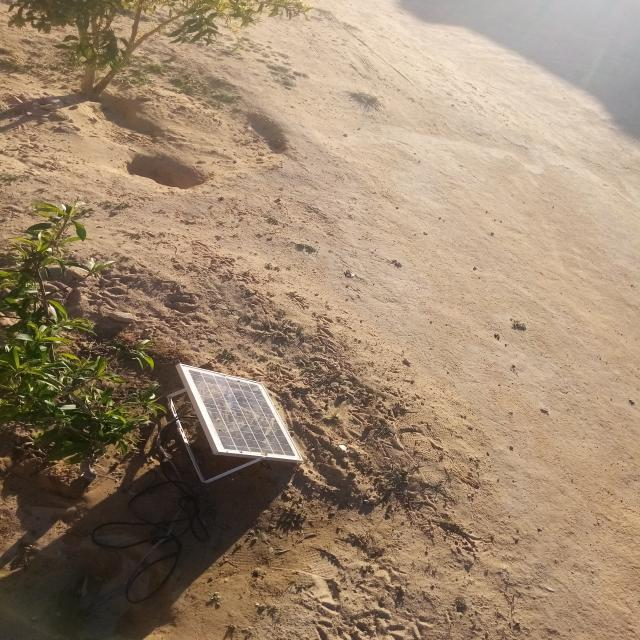faulty: (181, 365, 303, 461)
